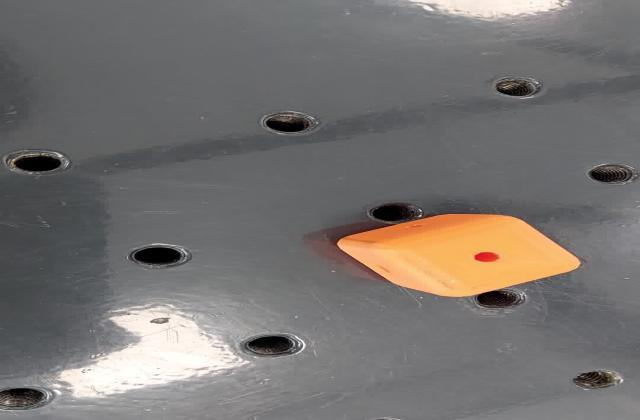cube: (328, 212, 588, 297)
